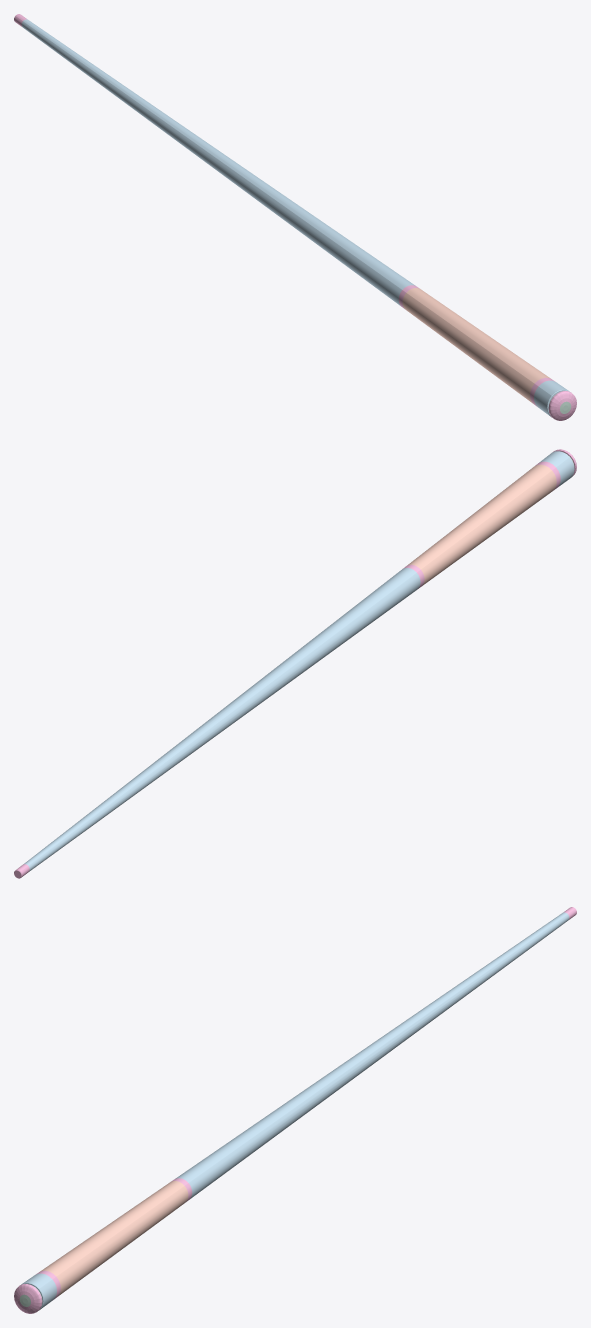
Rendered from UudempiMaila.fbx.
The picture shows the model from 3 angles, top to bottom: view 1: azimuth 30°, elevation 25°; view 2: azimuth 150°, elevation 25°; view 3: azimuth 330°, elevation 25°; orthographic projection.
Visible parts, largest first — view 1: maila; view 2: maila; view 3: maila.
Part boxes in pixels (box(x1,y1,x2,y2)): maila: box(14, 14, 576, 420); maila: box(14, 449, 576, 878); maila: box(14, 907, 576, 1313).
Size of what is drawn, in the model's own units: 4 by 4.13 by 138.
